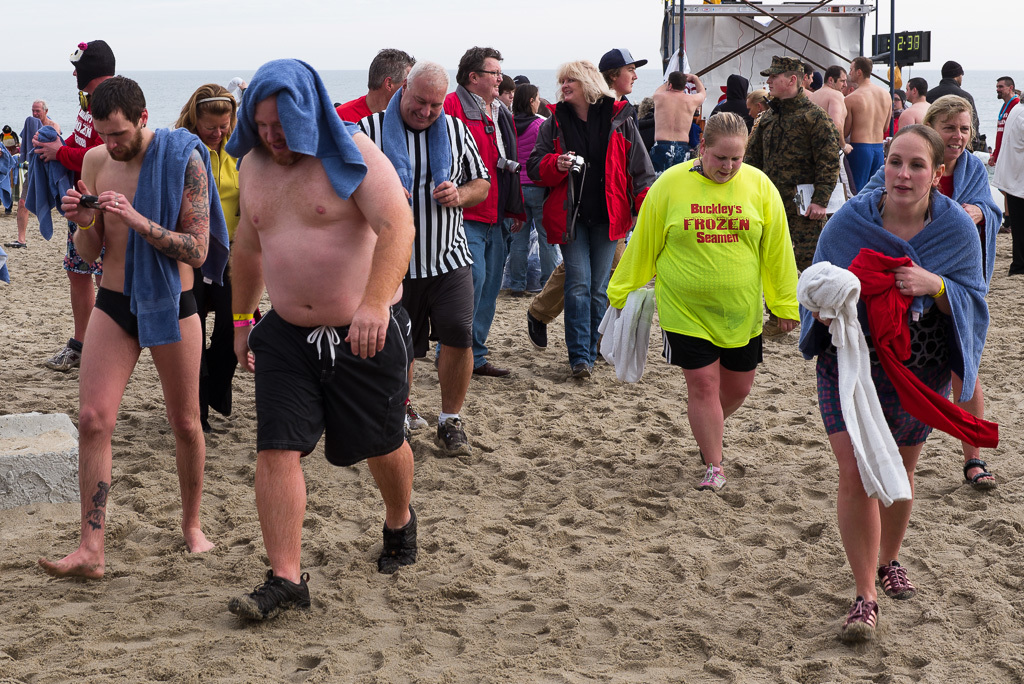Person: (0, 40, 1023, 636)
